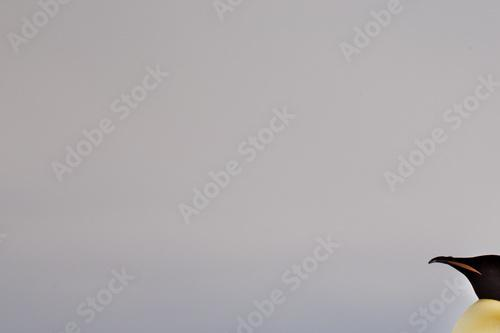Emperor Penguin: (367, 218, 500, 333)
